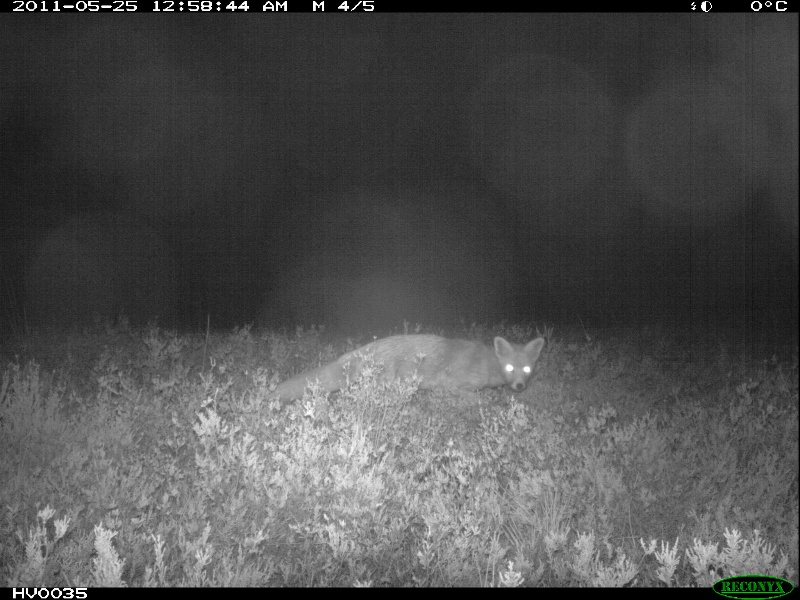fox: (253, 330, 553, 417)
